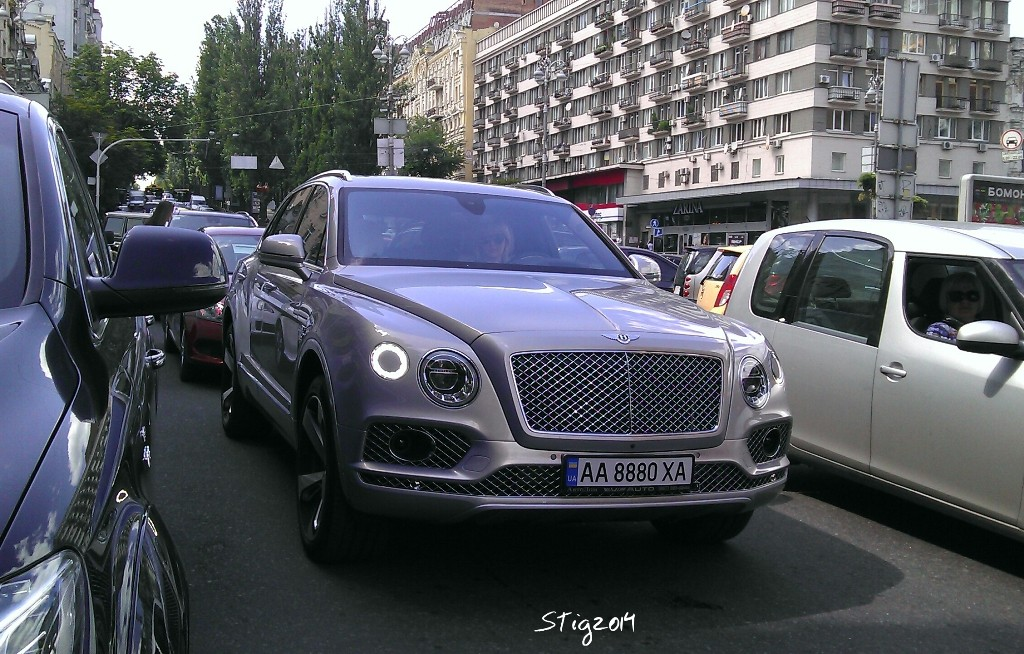car: (212, 167, 795, 569)
plate: (556, 454, 694, 485)
